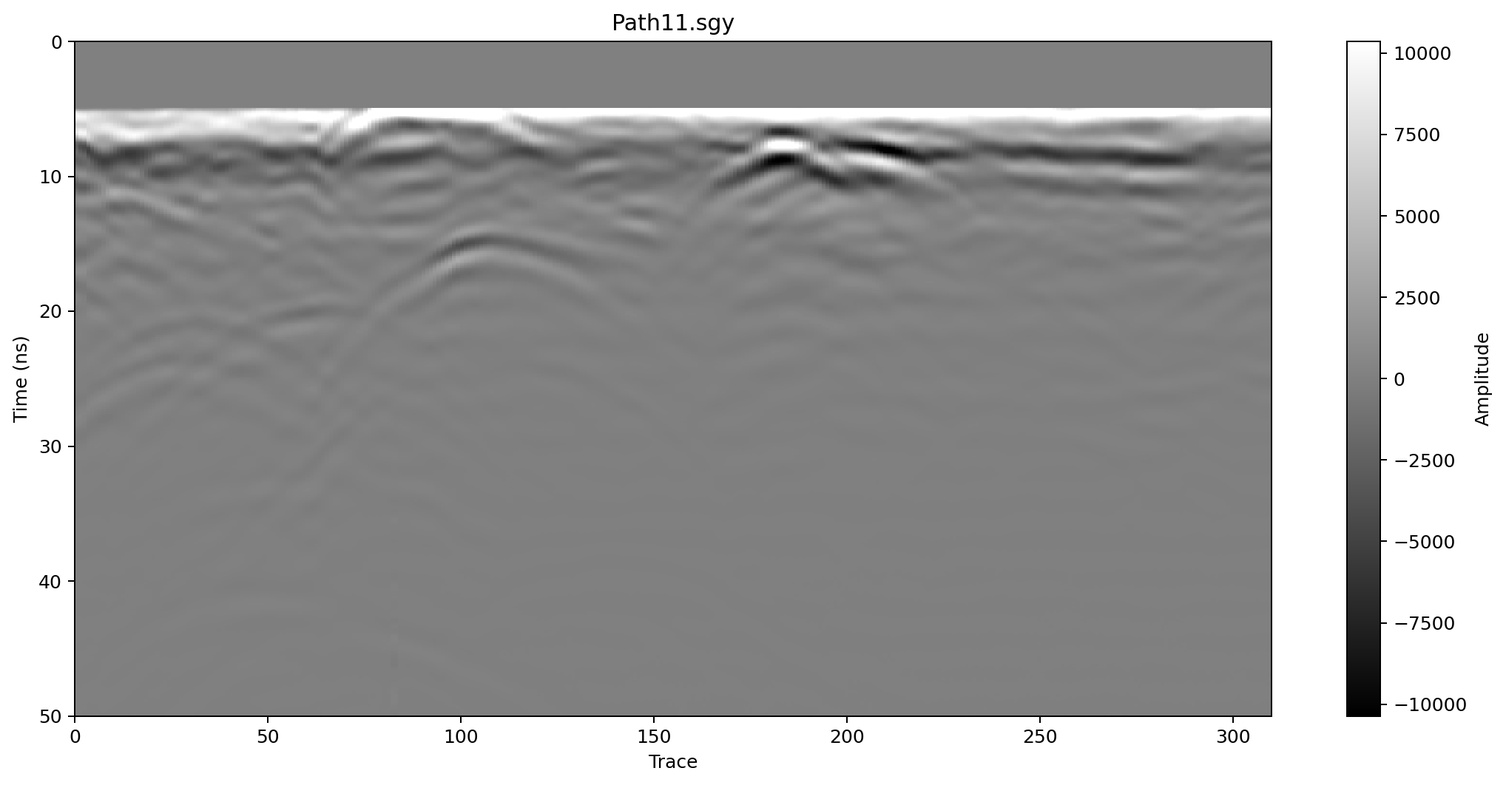utility: (365, 224, 628, 347), (647, 130, 888, 223)
